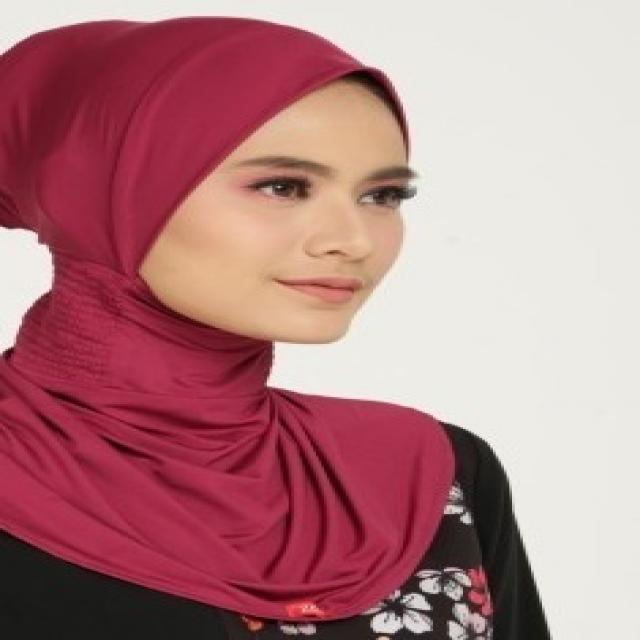head: (8, 13, 428, 361)
